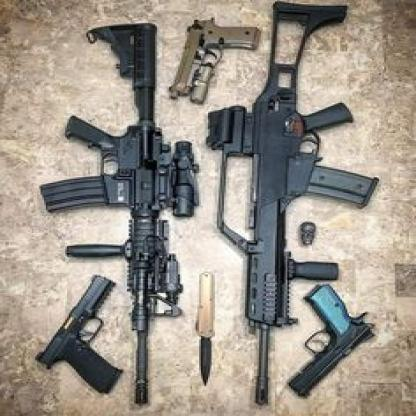Gun: (204, 0, 382, 406), (40, 20, 202, 406)
Knife: (195, 270, 216, 387)
Pistol: (34, 273, 125, 397), (285, 282, 377, 400), (165, 14, 263, 106)
